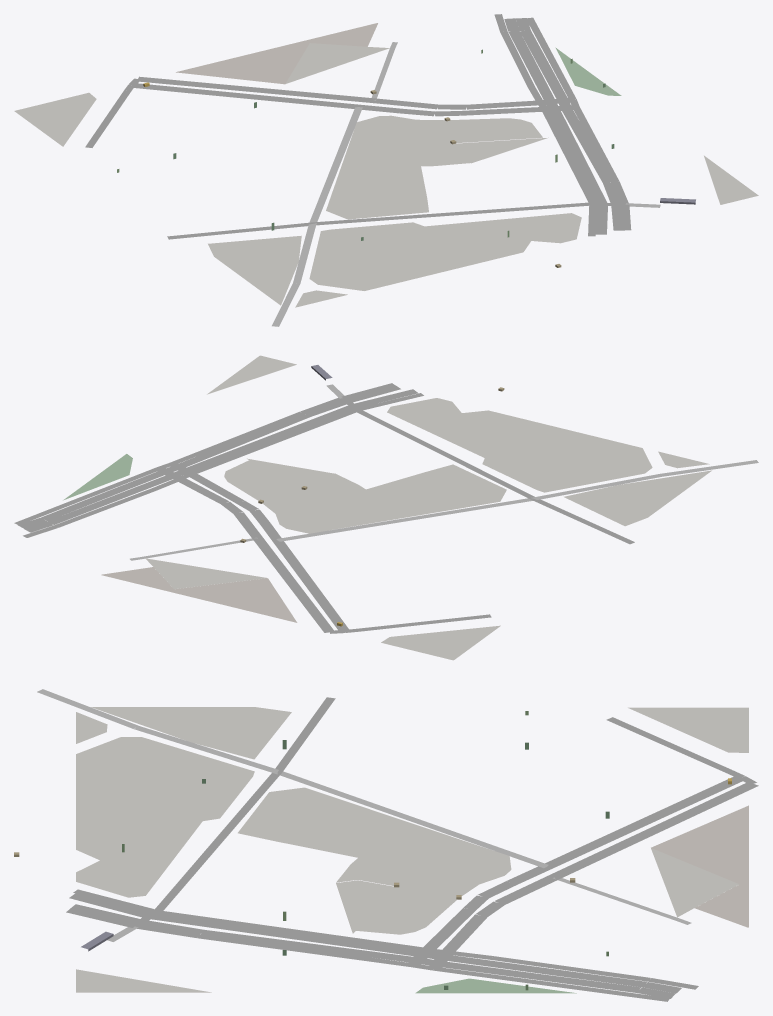
3 renders of one model, top to bottom at view 1: azimuth 30°, elevation 25°; view 2: azimuth 150°, elevation 25°; view 3: azimuth 270°, elevation 25°, orthographic. The views are drawn at different scales.
Bounding box in the file's own units: 545 × 9.76 × 554.
